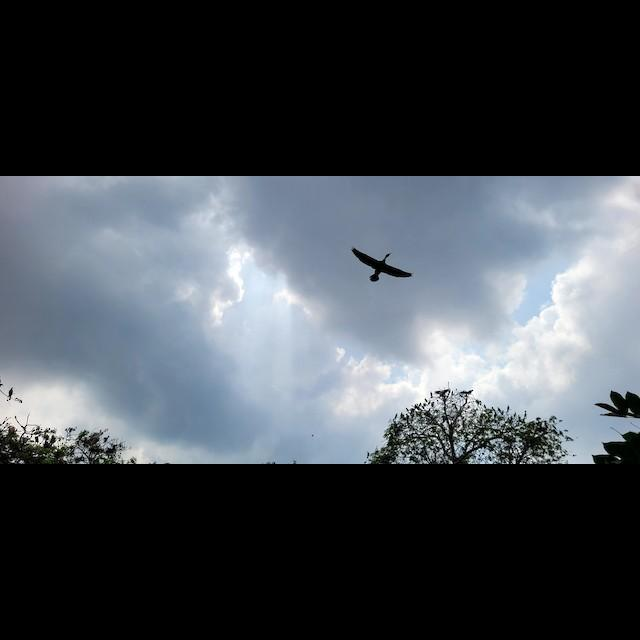cormorant: (349, 244, 415, 288)
